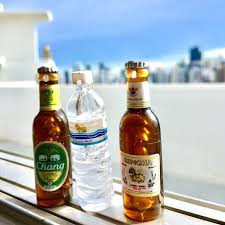glass_bottle: (24, 55, 177, 224)
